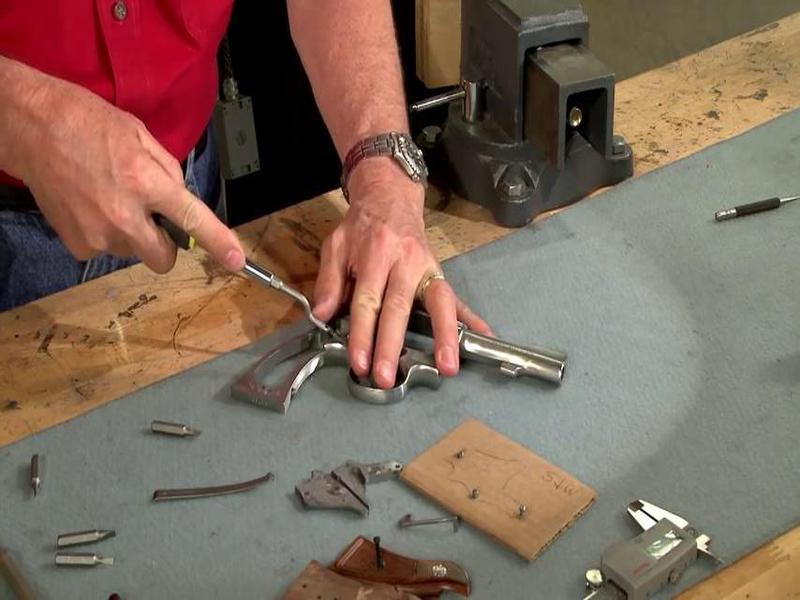Revolver: (244, 267, 586, 434)
